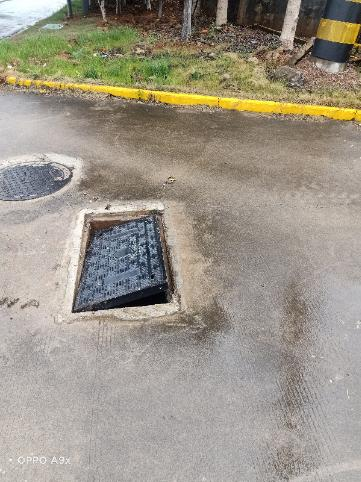wellcover: (74, 208, 190, 315), (1, 143, 78, 210)
